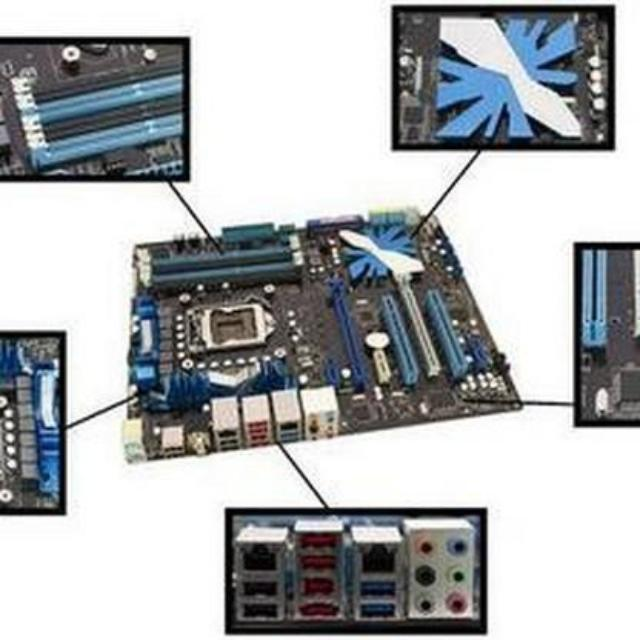Mainboard: (114, 198, 532, 474)
